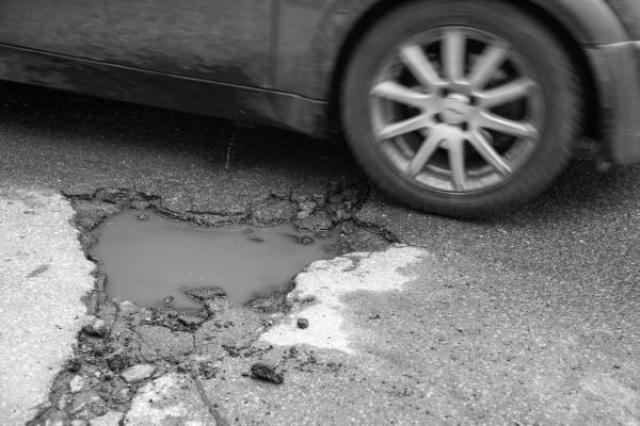Pothole: (41, 171, 370, 339)
